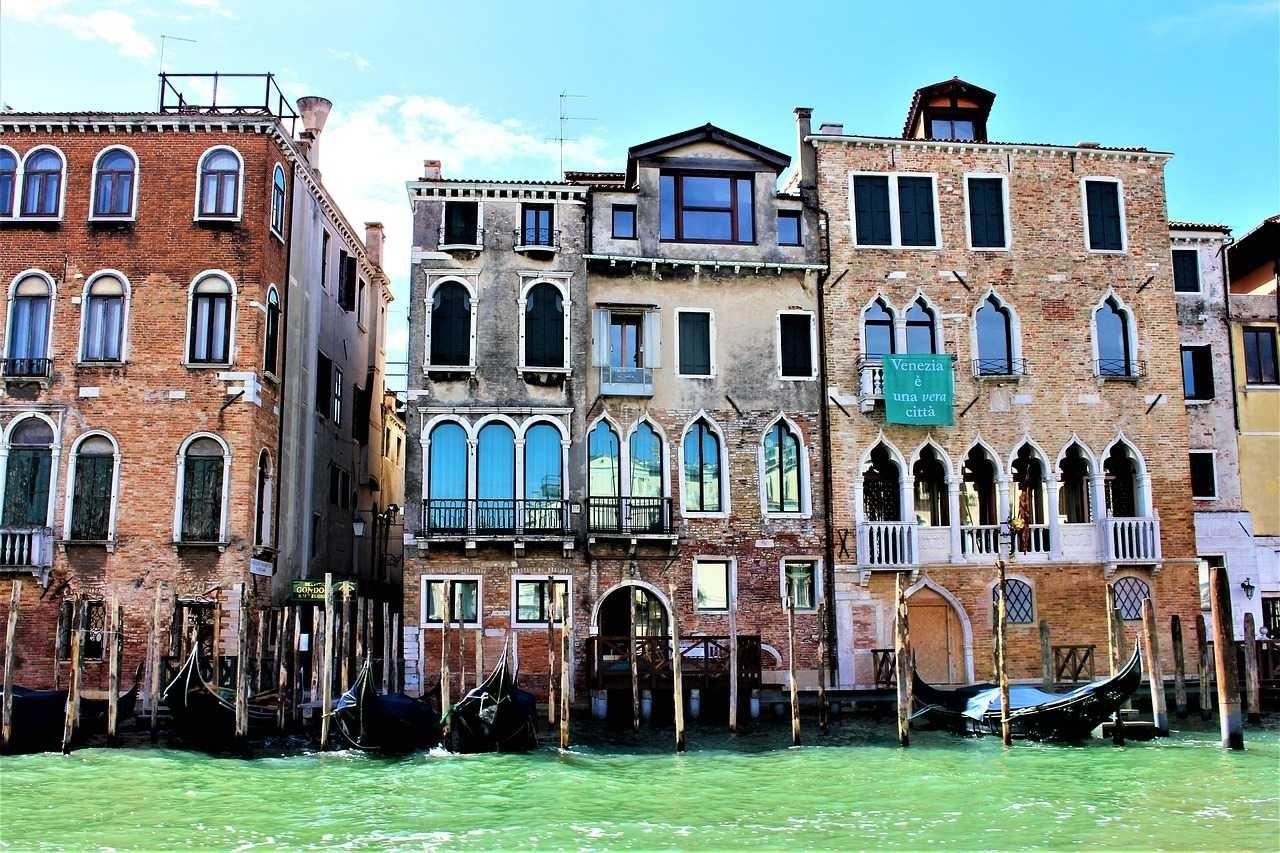kayak: (958, 643, 1142, 743)
